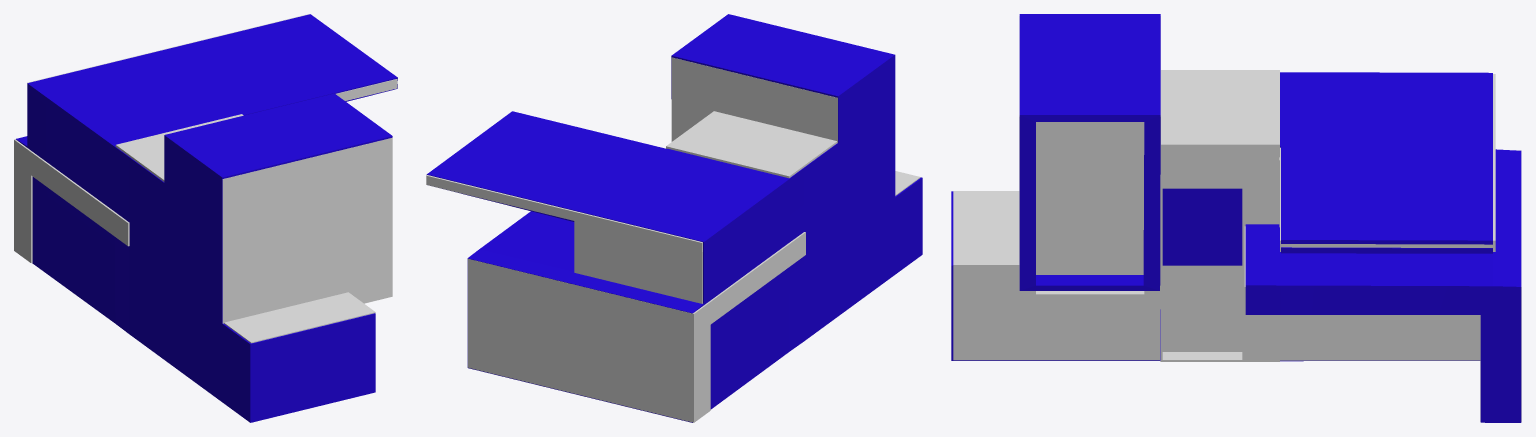
File: house.fbx
3 views of the same model, side by side, from view 1: azimuth 30°, elevation 25°; view 2: azimuth 150°, elevation 25°; view 3: azimuth 270°, elevation 25° (orthographic). The views are drawn at different scales.
Visible parts, largest first — view 1: Plane, Cube; view 2: Plane, Cube; view 3: Plane, Cube.
Part boxes in pixels (box(x1,y1,x2,y2)): Plane: box(16, 14, 397, 422); Cube: box(14, 14, 397, 343); Plane: box(426, 14, 922, 422); Cube: box(426, 57, 920, 422); Plane: box(951, 14, 1521, 422); Cube: box(953, 16, 1521, 421).
Bounding box in the file's own units: 3342 × 2523 × 4775.
